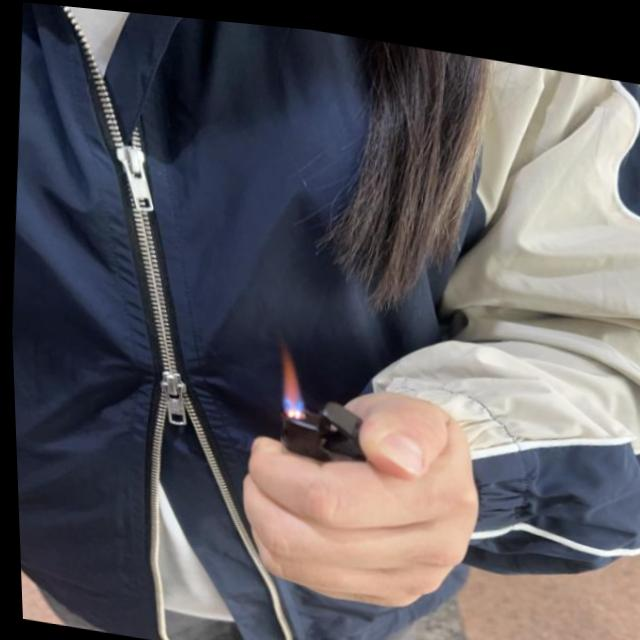Fire: (269, 325, 306, 415)
